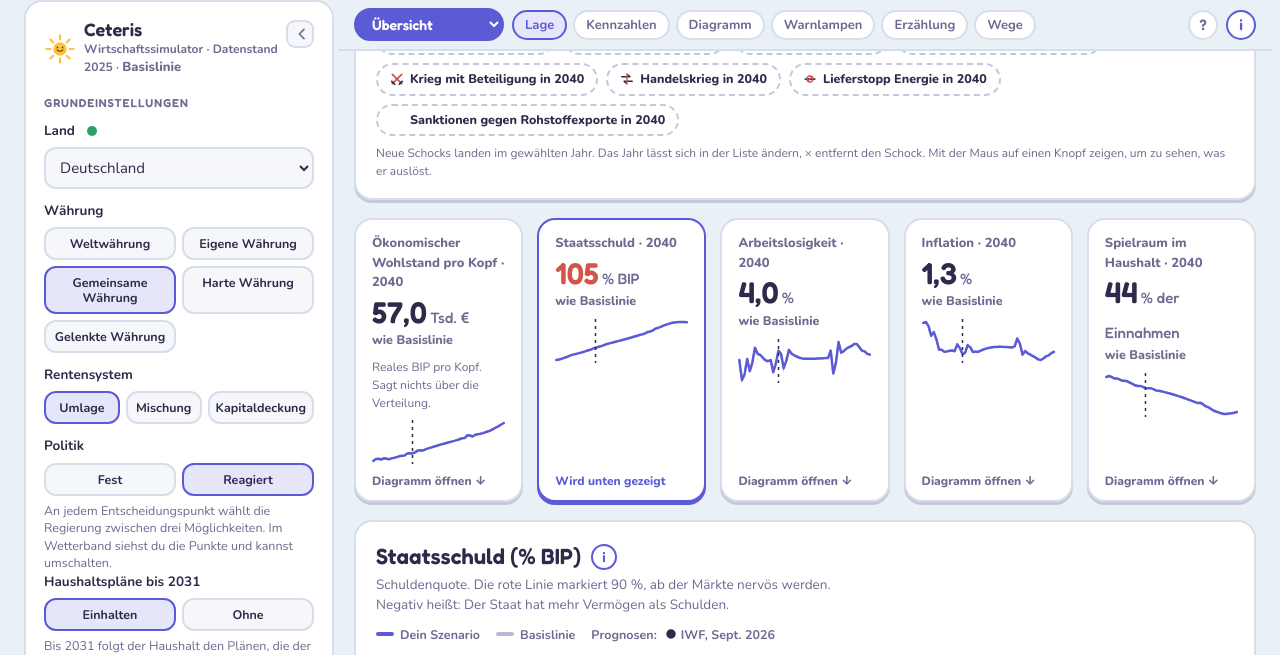
Kennzahlen und Diagramm › fünf Kacheln, Spielraum im Haushalt ist eine davon
(page scrolled)
Click the button "Spielraum im Haushalt ·" at [1171, 360], box [1087,218,1256,502]
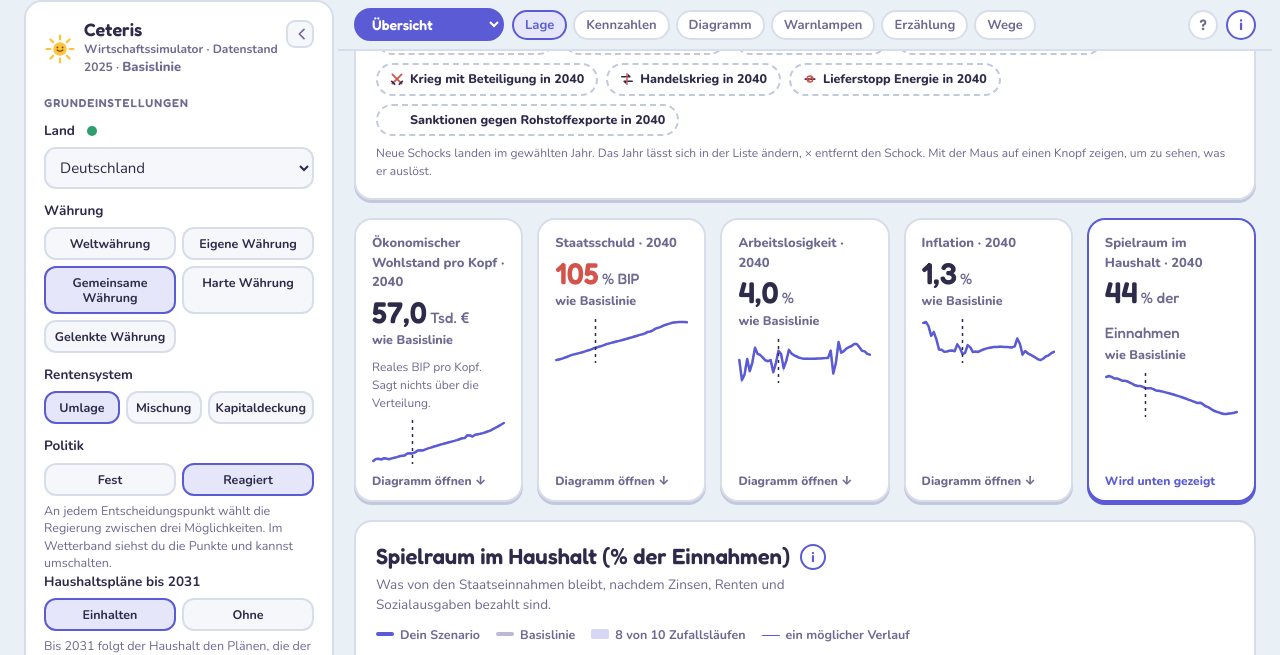
Expected: the heading "Spielraum im Haushalt (% der Einnahmen)" is shown, [376,540,790,573]
